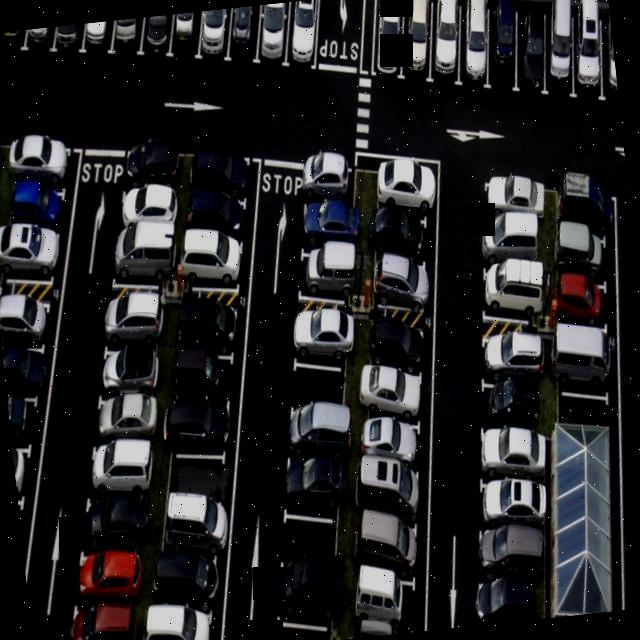car: (347, 510, 426, 594), (352, 454, 424, 534), (470, 368, 547, 442), (558, 4, 616, 102), (474, 469, 550, 541), (475, 418, 551, 488), (276, 454, 347, 528), (348, 568, 423, 638), (84, 434, 150, 508), (283, 395, 354, 463), (476, 324, 544, 394), (477, 210, 544, 280), (450, 5, 502, 94), (170, 345, 240, 411), (360, 358, 425, 429), (507, 16, 558, 104), (270, 572, 338, 638), (150, 550, 220, 614), (478, 260, 548, 324), (362, 249, 428, 316), (479, 8, 529, 96), (391, 0, 444, 83), (361, 0, 418, 77), (176, 237, 250, 296), (290, 305, 354, 372), (0, 220, 63, 288), (421, 2, 470, 89), (547, 273, 615, 335), (158, 503, 228, 563), (174, 294, 244, 354), (548, 340, 618, 399), (69, 550, 133, 614), (549, 233, 615, 295), (165, 399, 235, 457), (295, 200, 359, 262), (539, 6, 584, 94), (92, 386, 158, 446), (183, 147, 252, 204), (99, 290, 162, 352), (473, 567, 540, 625), (362, 416, 426, 476), (5, 177, 68, 237), (112, 230, 170, 294), (283, 0, 333, 74), (479, 522, 543, 578), (293, 156, 359, 210), (478, 170, 544, 224), (0, 290, 53, 357), (294, 248, 354, 306), (122, 138, 183, 194), (550, 184, 613, 238), (370, 204, 430, 260), (186, 193, 248, 246), (84, 497, 142, 553), (115, 178, 179, 228), (12, 142, 74, 193), (193, 7, 242, 71), (222, 4, 270, 69), (376, 162, 432, 216), (368, 315, 423, 369), (98, 344, 155, 396), (253, 1, 297, 66), (1, 344, 46, 406), (164, 10, 212, 66), (590, 12, 618, 104), (145, 605, 217, 640), (137, 13, 185, 63), (6, 384, 40, 454), (66, 605, 127, 640), (109, 16, 154, 63), (21, 25, 68, 62), (46, 22, 94, 55), (80, 19, 126, 51), (11, 440, 31, 510), (0, 28, 40, 58), (350, 626, 414, 638), (0, 31, 11, 57)
free: (164, 440, 232, 508), (272, 514, 338, 578), (555, 386, 624, 438), (286, 362, 348, 419), (269, 616, 333, 640)
